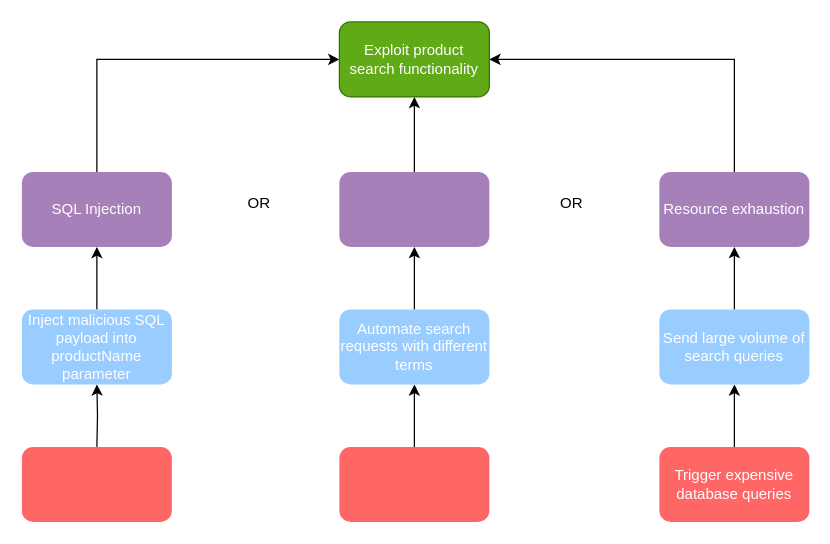
Image size: 830x544. Some labels were removed from this diagram. Each missing label, with the centre of its shape:
"Build script to enumerate product names" goes at (414,483).
"Catalog scraping" goes at (414,208).
"Identify vulnerable query input field" goes at (96,483).
